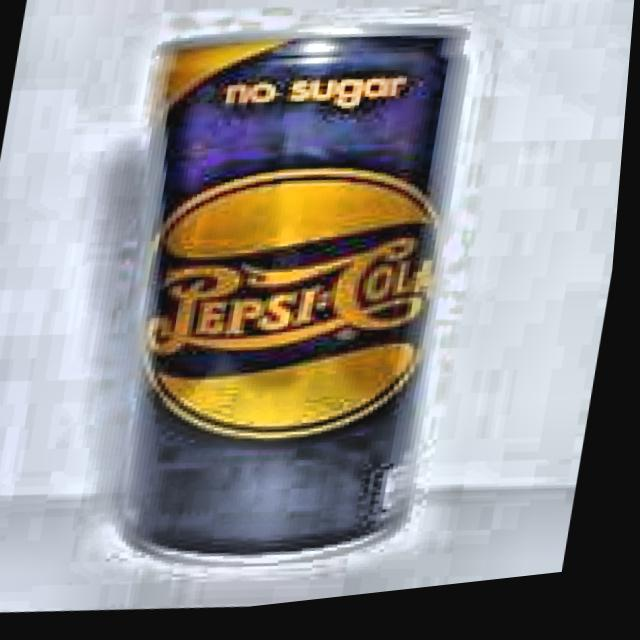Cans: (66, 0, 541, 631)
